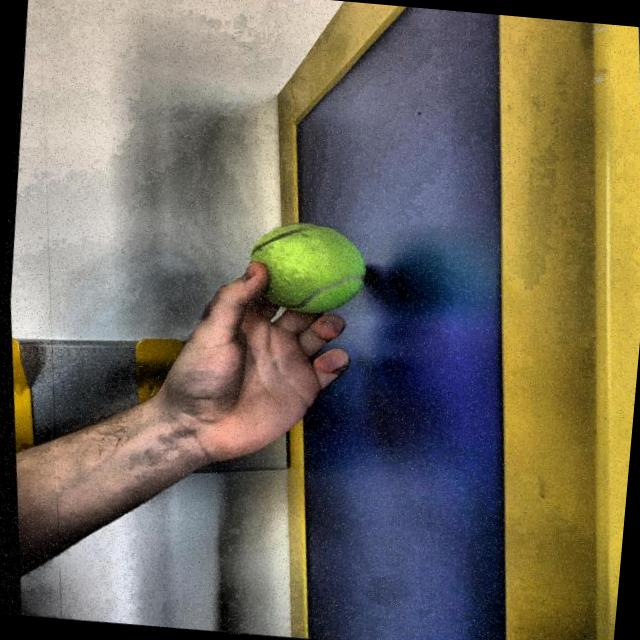Tennis Ball: (235, 219, 378, 324)
